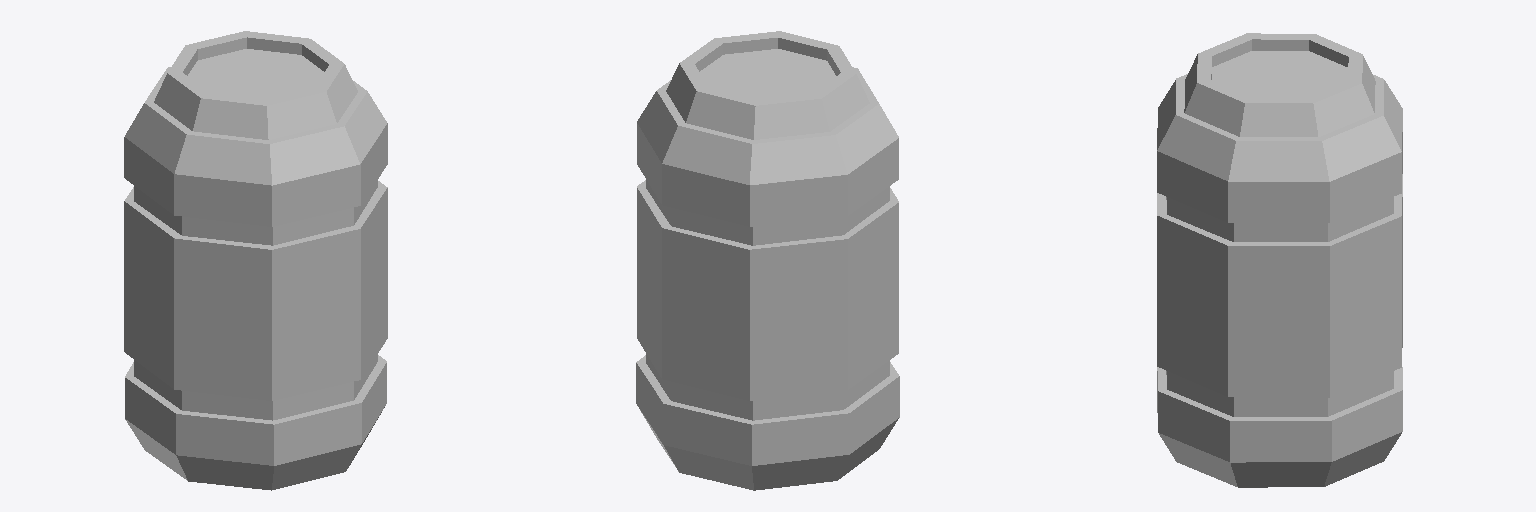
File: ME_Barrel.obj
3 renders of one model, left to right at view 1: azimuth 30°, elevation 25°; view 2: azimuth 150°, elevation 25°; view 3: azimuth 270°, elevation 25°, orthographic.
Visible parts, largest first — view 1: Circle; view 2: Circle; view 3: Circle.
Boxes of the visible parts, <box> form: Circle: <box>124,31,387,490</box>; Circle: <box>636,31,899,490</box>; Circle: <box>1157,33,1402,487</box>.
Size of the model in its own units: 0.5795 by 0.975 by 0.5795.